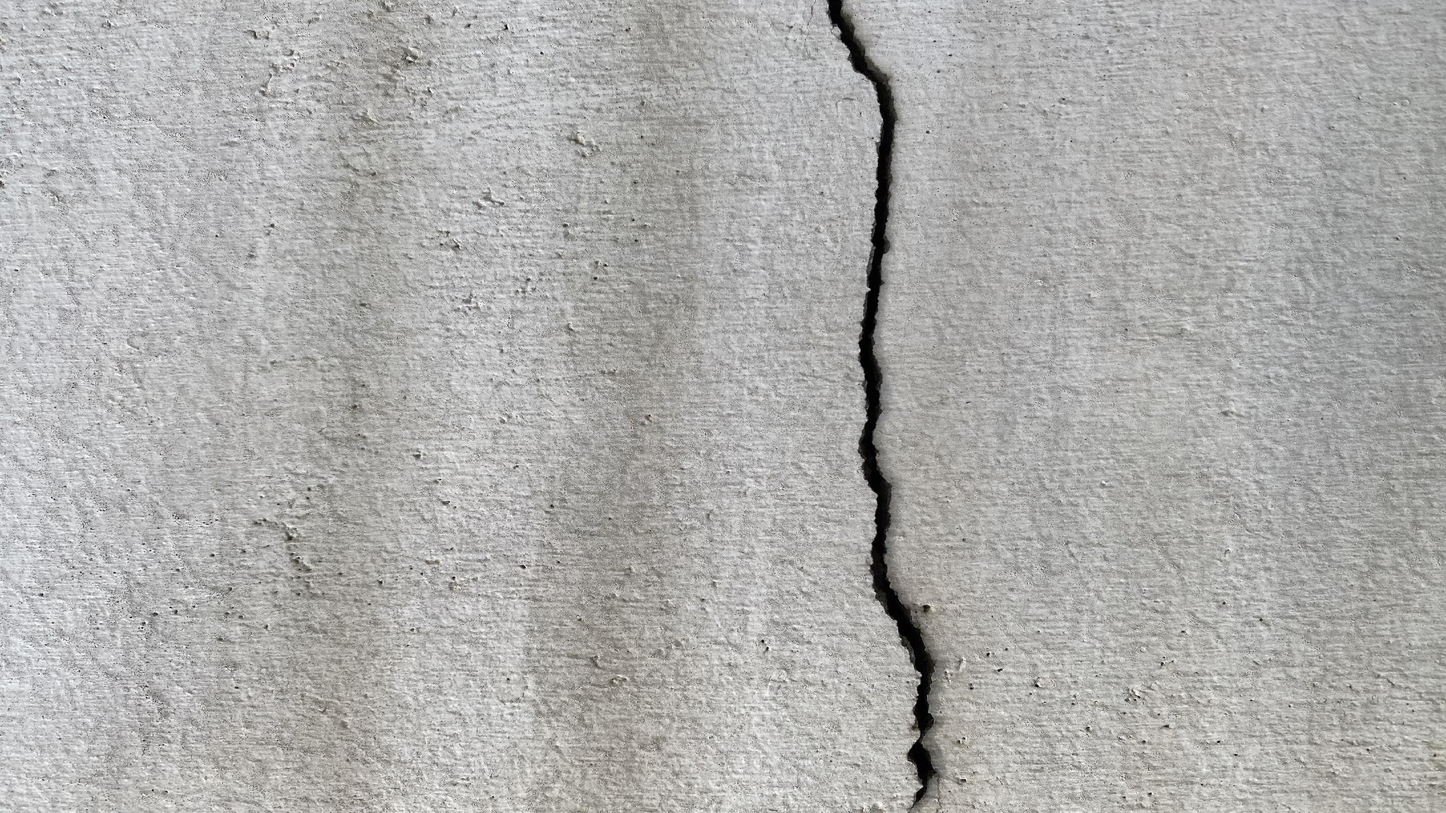crack: (821, 1, 940, 811)
